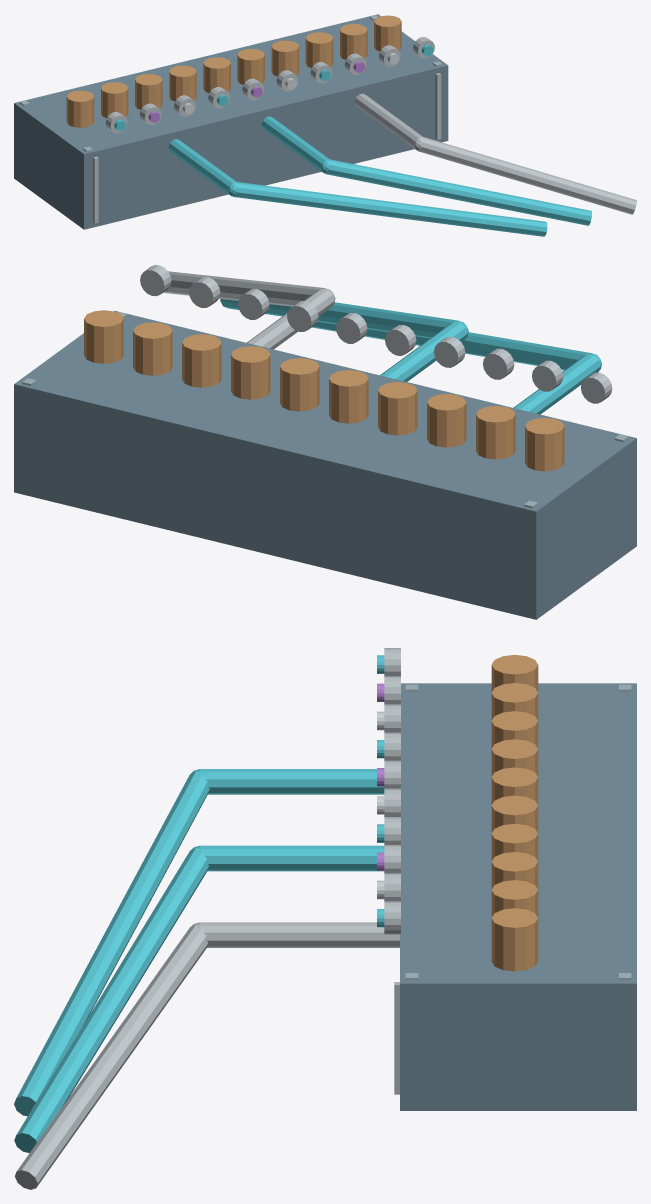
The model's file is 22_L72_SequentialGasDistributionManifold.glb.
3 renders of one model, top to bottom at view 1: azimuth 30°, elevation 25°; view 2: azimuth 150°, elevation 25°; view 3: azimuth 270°, elevation 25°, orthographic. The views are drawn at different scales.
Parts seen in each view (by area): view 1: SequentialGasDistributionManifold_Part_000, SequentialGasDistributionManifold_Part_038, SequentialGasDistributionManifold_Part_041, SequentialGasDistributionManifold_Part_044, SequentialGasDistributionManifold_Part_037, SequentialGasDistributionManifold_Part_043, SequentialGasDistributionManifold_Part_040, SequentialGasDistributionManifold_Part_007, SequentialGasDistributionManifold_Part_025, SequentialGasDistributionManifold_Part_028, SequentialGasDistributionManifold_Part_034, SequentialGasDistributionManifold_Part_016 (+7 smaller); view 2: SequentialGasDistributionManifold_Part_000, SequentialGasDistributionManifold_Part_038, SequentialGasDistributionManifold_Part_041, SequentialGasDistributionManifold_Part_044, SequentialGasDistributionManifold_Part_010, SequentialGasDistributionManifold_Part_016, SequentialGasDistributionManifold_Part_025, SequentialGasDistributionManifold_Part_007, SequentialGasDistributionManifold_Part_013, SequentialGasDistributionManifold_Part_019, SequentialGasDistributionManifold_Part_031, SequentialGasDistributionManifold_Part_034 (+15 smaller); view 3: SequentialGasDistributionManifold_Part_000, SequentialGasDistributionManifold_Part_038, SequentialGasDistributionManifold_Part_041, SequentialGasDistributionManifold_Part_044, SequentialGasDistributionManifold_Part_043, SequentialGasDistributionManifold_Part_040, SequentialGasDistributionManifold_Part_037, SequentialGasDistributionManifold_Part_034, SequentialGasDistributionManifold_Part_031, SequentialGasDistributionManifold_Part_010, SequentialGasDistributionManifold_Part_013, SequentialGasDistributionManifold_Part_019 (+5 smaller).
Boxes of the visible parts, <box> form: SequentialGasDistributionManifold_Part_000: <box>14,14,448,229</box>; SequentialGasDistributionManifold_Part_038: <box>233,182,547,236</box>; SequentialGasDistributionManifold_Part_041: <box>326,159,591,225</box>; SequentialGasDistributionManifold_Part_044: <box>418,136,636,214</box>; SequentialGasDistributionManifold_Part_037: <box>168,139,236,194</box>; SequentialGasDistributionManifold_Part_043: <box>354,93,422,149</box>; SequentialGasDistributionManifold_Part_040: <box>261,116,329,172</box>; SequentialGasDistributionManifold_Part_007: <box>66,90,94,127</box>; SequentialGasDistributionManifold_Part_025: <box>271,40,299,76</box>; SequentialGasDistributionManifold_Part_028: <box>305,32,333,68</box>; SequentialGasDistributionManifold_Part_034: <box>374,15,401,51</box>; SequentialGasDistributionManifold_Part_016: <box>169,65,196,101</box>; SequentialGasDistributionManifold_Part_000: <box>14,310,636,619</box>; SequentialGasDistributionManifold_Part_038: <box>312,321,593,370</box>; SequentialGasDistributionManifold_Part_041: <box>220,299,459,338</box>; SequentialGasDistributionManifold_Part_044: <box>163,271,325,306</box>; SequentialGasDistributionManifold_Part_010: <box>476,406,515,459</box>; SequentialGasDistributionManifold_Part_016: <box>378,382,417,435</box>; SequentialGasDistributionManifold_Part_025: <box>231,346,270,399</box>; SequentialGasDistributionManifold_Part_007: <box>525,417,564,471</box>; SequentialGasDistributionManifold_Part_013: <box>427,394,466,447</box>; SequentialGasDistributionManifold_Part_019: <box>329,370,368,423</box>; SequentialGasDistributionManifold_Part_031: <box>133,322,172,375</box>; SequentialGasDistributionManifold_Part_034: <box>84,310,123,363</box>; SequentialGasDistributionManifold_Part_000: <box>400,683,636,1110</box>; SequentialGasDistributionManifold_Part_038: <box>14,771,209,1116</box>; SequentialGasDistributionManifold_Part_041: <box>14,848,208,1152</box>; SequentialGasDistributionManifold_Part_044: <box>15,925,208,1189</box>; SequentialGasDistributionManifold_Part_043: <box>200,922,399,947</box>; SequentialGasDistributionManifold_Part_040: <box>200,845,384,871</box>; SequentialGasDistributionManifold_Part_037: <box>200,769,384,794</box>; SequentialGasDistributionManifold_Part_034: <box>491,908,538,971</box>; SequentialGasDistributionManifold_Part_031: <box>491,880,538,917</box>; SequentialGasDistributionManifold_Part_010: <box>491,683,538,720</box>; SequentialGasDistributionManifold_Part_013: <box>491,711,538,748</box>; SequentialGasDistributionManifold_Part_019: <box>491,767,538,804</box>.
Bounding box in the file's own units: 2.34 × 0.6078 × 1.68.
